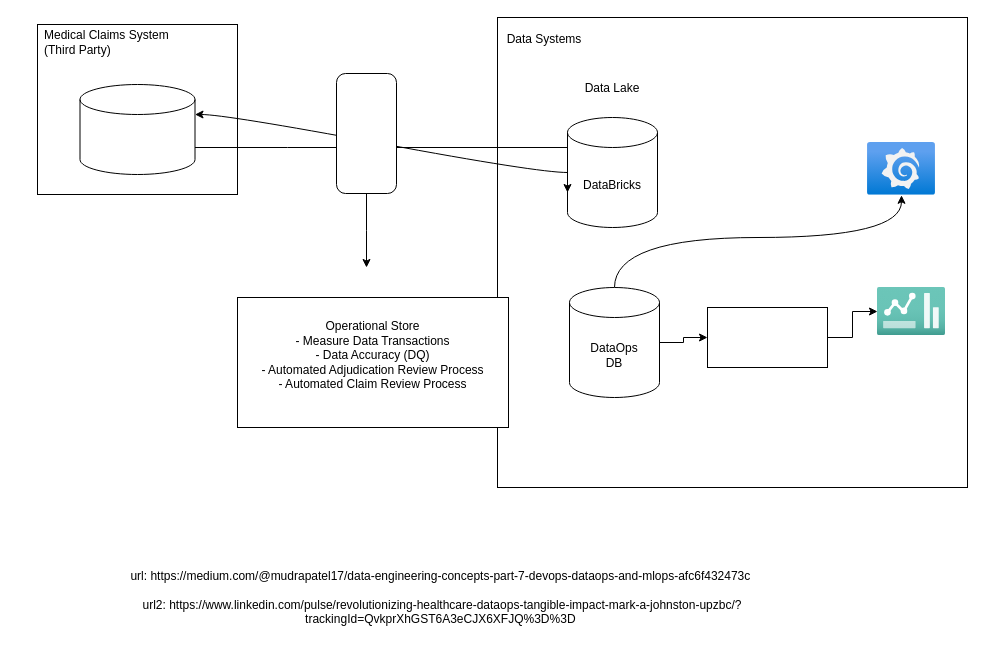
The diagram is 985 pixels wide and 655 high, and some of its shapes have lost their labels. The shapes that lost their labels are listed below. From the top down, each one's box as (x1, y1, x2, y2) in pixels, then its label:
(79, 84, 195, 174): Tredium
(706, 306, 828, 368): Reporting DataMart
